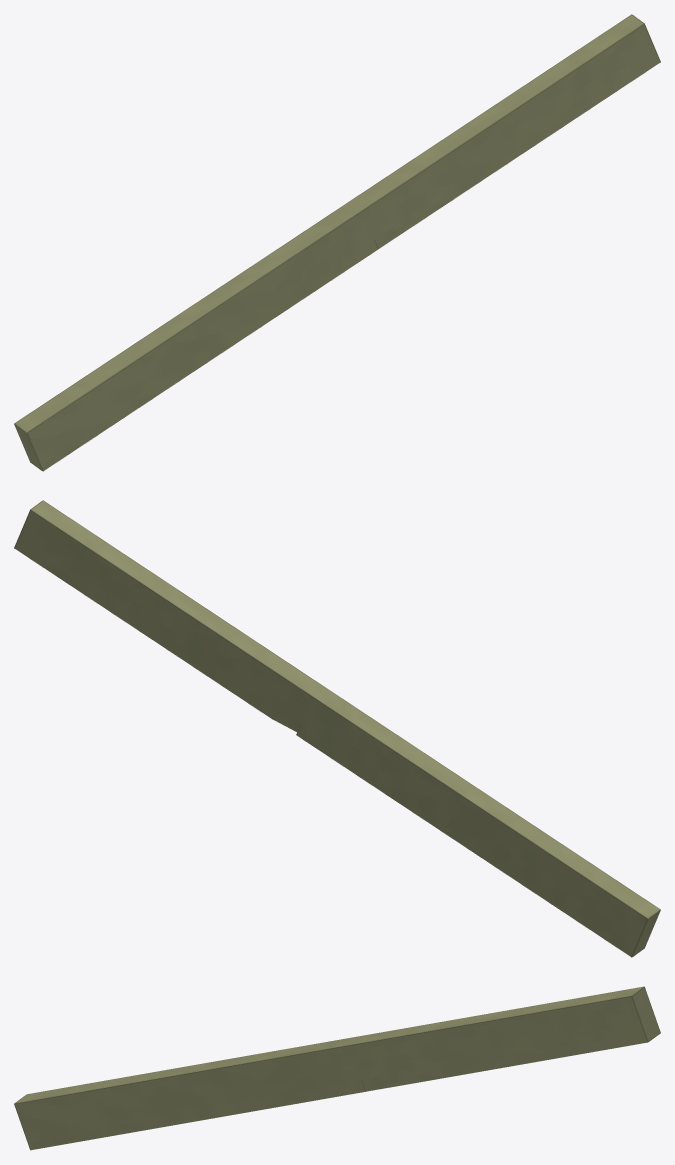
3 renders of one model, top to bottom at view 1: azimuth 30°, elevation 25°; view 2: azimuth 150°, elevation 25°; view 3: azimuth 330°, elevation 25°, orthographic.
Parts seen in each view (by area): view 1: part-b; view 2: part-b; view 3: part-b.
Part boxes in pixels (x1,y1,x2,y2): part-b: (14, 14, 660, 471); part-b: (14, 500, 660, 957); part-b: (14, 986, 660, 1150).
Size of the model in its own units: 1.3 by 0.5923 by 0.0458.
